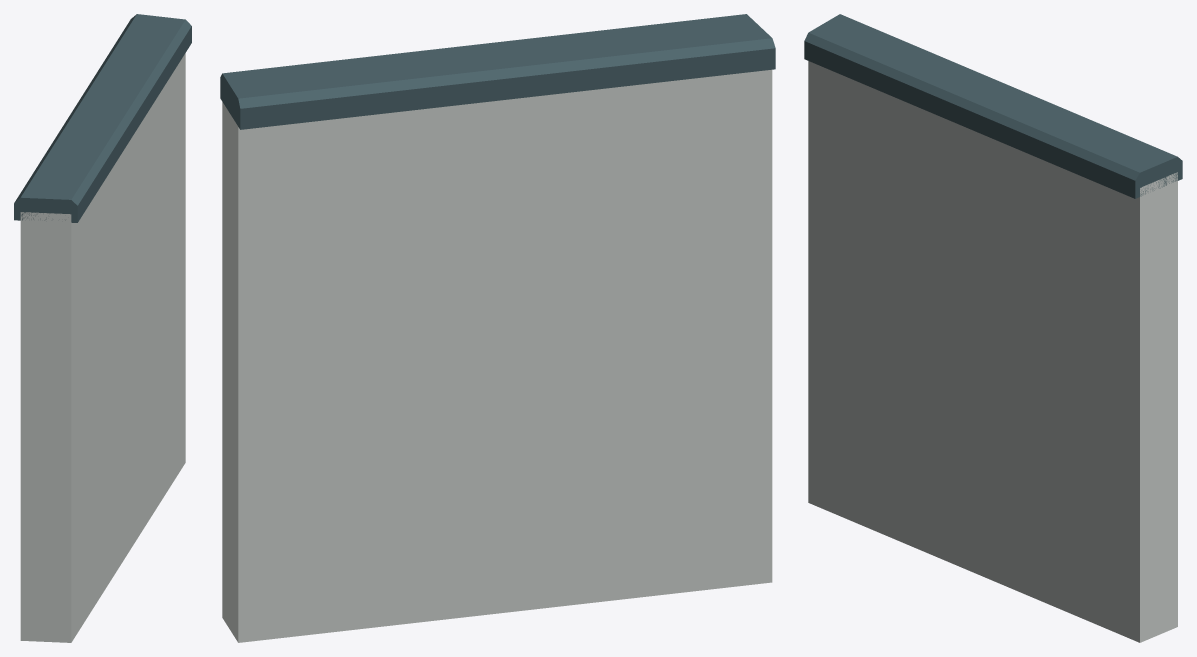
Rendered from halfwall_45_port_miter_8219_-5924_7071_-7071.glb.
3 renders of one model, left to right at view 1: azimuth 30°, elevation 25°; view 2: azimuth 150°, elevation 25°; view 3: azimuth 270°, elevation 25°, orthographic. The views are drawn at different scales.
Visible parts, largest first — view 1: Seamless solid halfwall.034, Seamless top cap.034; view 2: Seamless solid halfwall.034, Seamless top cap.034; view 3: Seamless solid halfwall.034, Seamless top cap.034.
Part boxes in pixels (x1,y1,x2,y2): Seamless solid halfwall.034: (20,53,185,642); Seamless top cap.034: (14,14,191,222); Seamless solid halfwall.034: (222,69,772,642); Seamless top cap.034: (220,14,775,129); Seamless solid halfwall.034: (808,61,1177,642); Seamless top cap.034: (804,14,1182,198).
Bounding box in the file's own units: 0.5764 × 0.775 × 0.565.
